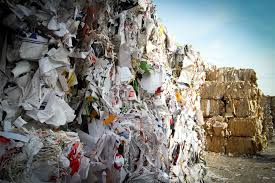garbage: (4, 4, 160, 183), (17, 36, 193, 183), (80, 65, 262, 153)
